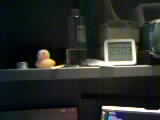duck: (31, 44, 60, 71)
